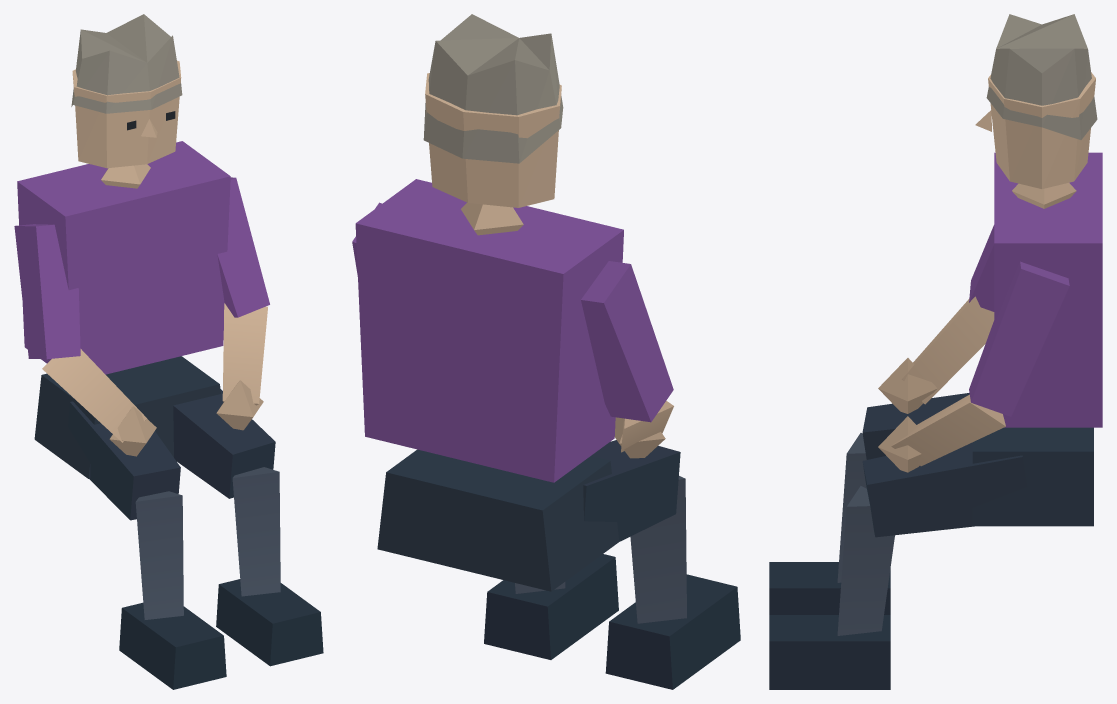
File: fan-08.glb
The picture shows the model from 3 angles, left to right: view 1: azimuth 30°, elevation 25°; view 2: azimuth 150°, elevation 25°; view 3: azimuth 270°, elevation 25°; orthographic projection. The views are drawn at different scales.
Parts seen in each view (by area): view 1: fan-08; view 2: fan-08; view 3: fan-08.
Part boxes in pixels (x1,y1,x2,y2): fan-08: (14,14,323,689); fan-08: (352,14,740,689); fan-08: (769,14,1102,689).
Size of the model in its own units: 0.6767 by 1.57 by 0.77.
